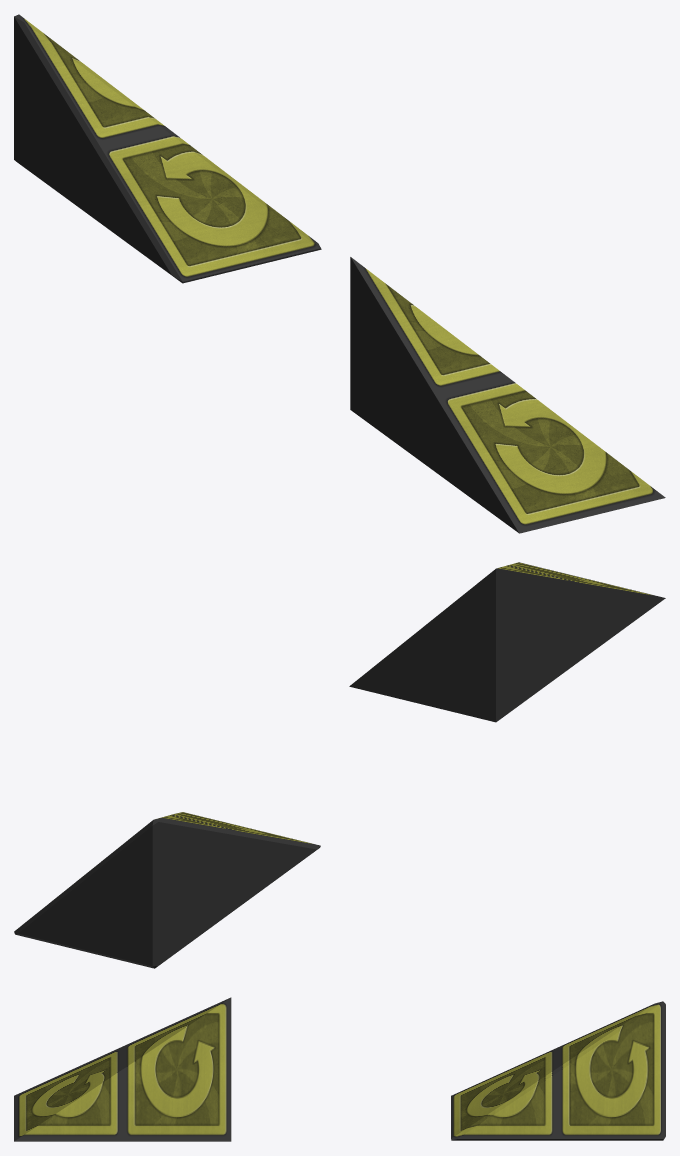
Rendered from slope.outsideCorner.1x2.fbx.
The picture shows the model from 3 angles, top to bottom: view 1: azimuth 30°, elevation 25°; view 2: azimuth 150°, elevation 25°; view 3: azimuth 270°, elevation 25°; orthographic projection. The views are drawn at different scales.
Visible parts, largest first — view 1: MESH slope.outsideCorner.1x2, MESH slope.outsideCorner.1x2.c; view 2: MESH slope.outsideCorner.1x2, MESH slope.outsideCorner.1x2.c; view 3: MESH slope.outsideCorner.1x2, MESH slope.outsideCorner.1x2.c.
Boxes of the visible parts, box(x1,y1,x2,y2) form: MESH slope.outsideCorner.1x2: box(350, 257, 665, 533); MESH slope.outsideCorner.1x2.c: box(14, 14, 321, 283); MESH slope.outsideCorner.1x2: box(349, 562, 665, 722); MESH slope.outsideCorner.1x2.c: box(14, 812, 320, 968); MESH slope.outsideCorner.1x2: box(14, 997, 231, 1141); MESH slope.outsideCorner.1x2.c: box(451, 1001, 665, 1140).
Size of what is drawn, in the model's own units: 100 by 100 by 600.
